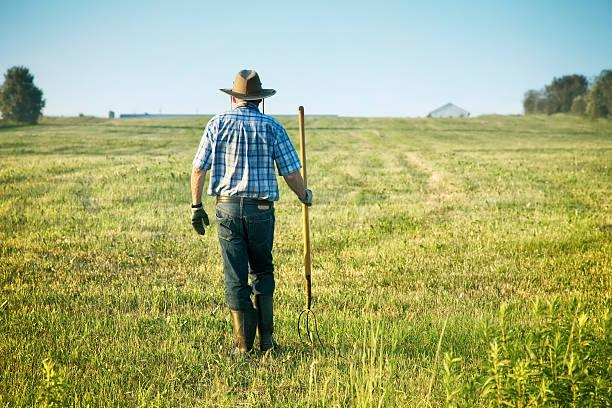Human: (185, 70, 309, 377)
